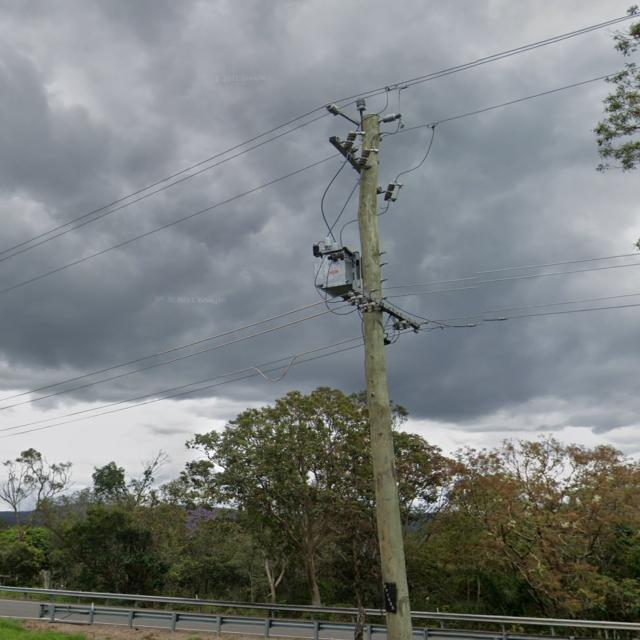HV-transmission: (325, 98, 404, 202)
LV link: (359, 296, 387, 313), (347, 288, 376, 304), (392, 320, 432, 330)
crossarm: (343, 286, 421, 331), (328, 135, 362, 174), (339, 112, 363, 127)
timber-pole: (358, 112, 414, 640)
transformer: (312, 241, 360, 302)
